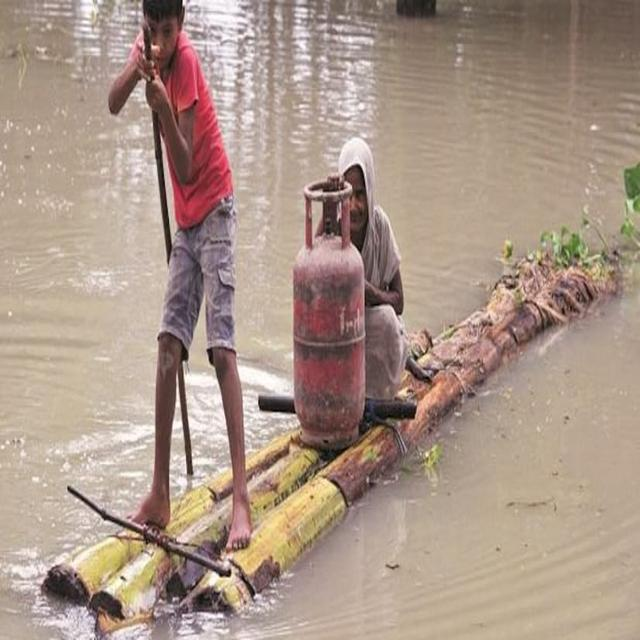Person-RiskLevel3: (96, 3, 270, 565), (306, 122, 430, 430)
